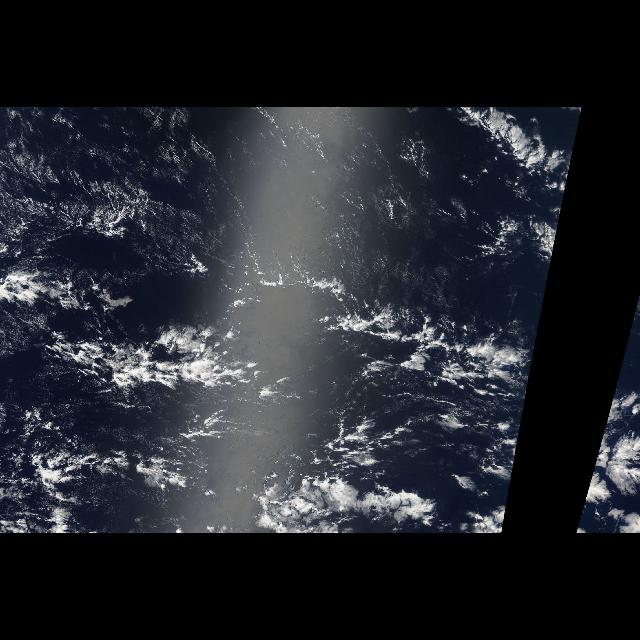Fish: (1, 257, 535, 441)
Sugar: (0, 108, 478, 356)
